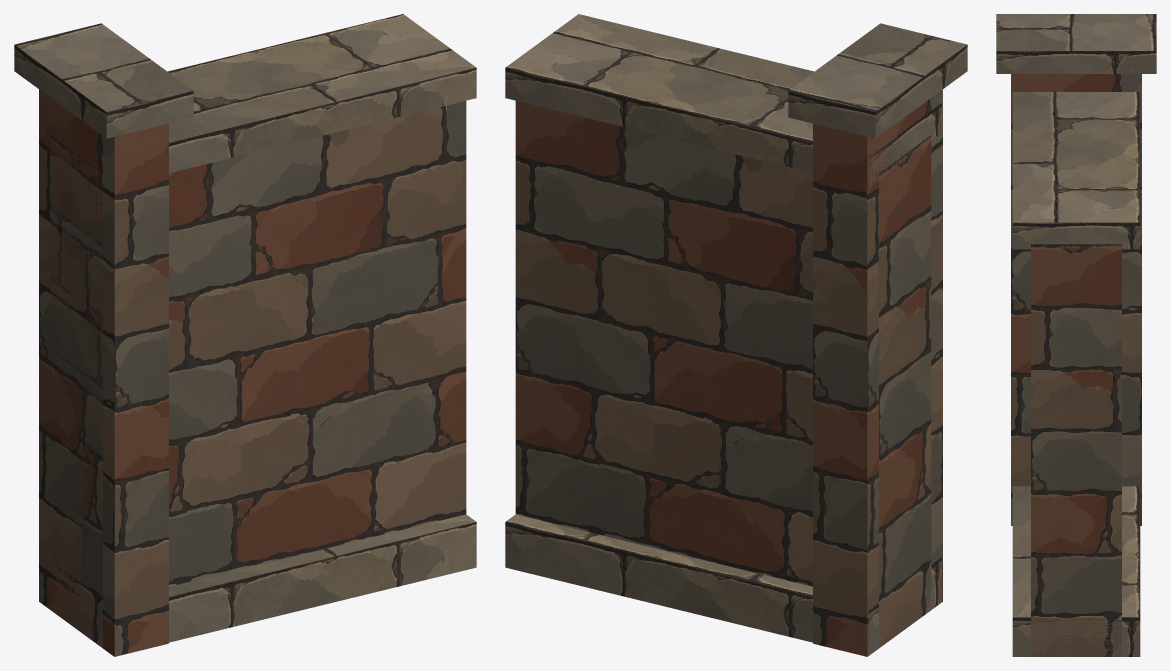
The model's file is wall_straight.glb.
The picture shows the model from 3 angles, left to right: view 1: azimuth 30°, elevation 25°; view 2: azimuth 150°, elevation 25°; view 3: azimuth 270°, elevation 25°; orthographic projection. The views are drawn at different scales.
Visible parts, largest first — view 1: wall_straight; view 2: wall_straight; view 3: wall_straight.
Boxes of the visible parts, x1,y1,x2,y2 form: wall_straight: [14, 14, 476, 656]; wall_straight: [505, 14, 967, 656]; wall_straight: [996, 14, 1156, 656].
Bounding box in the file's own units: 2.09 × 2.92 × 0.88.
Materials: 2 (2 with a texture image).
